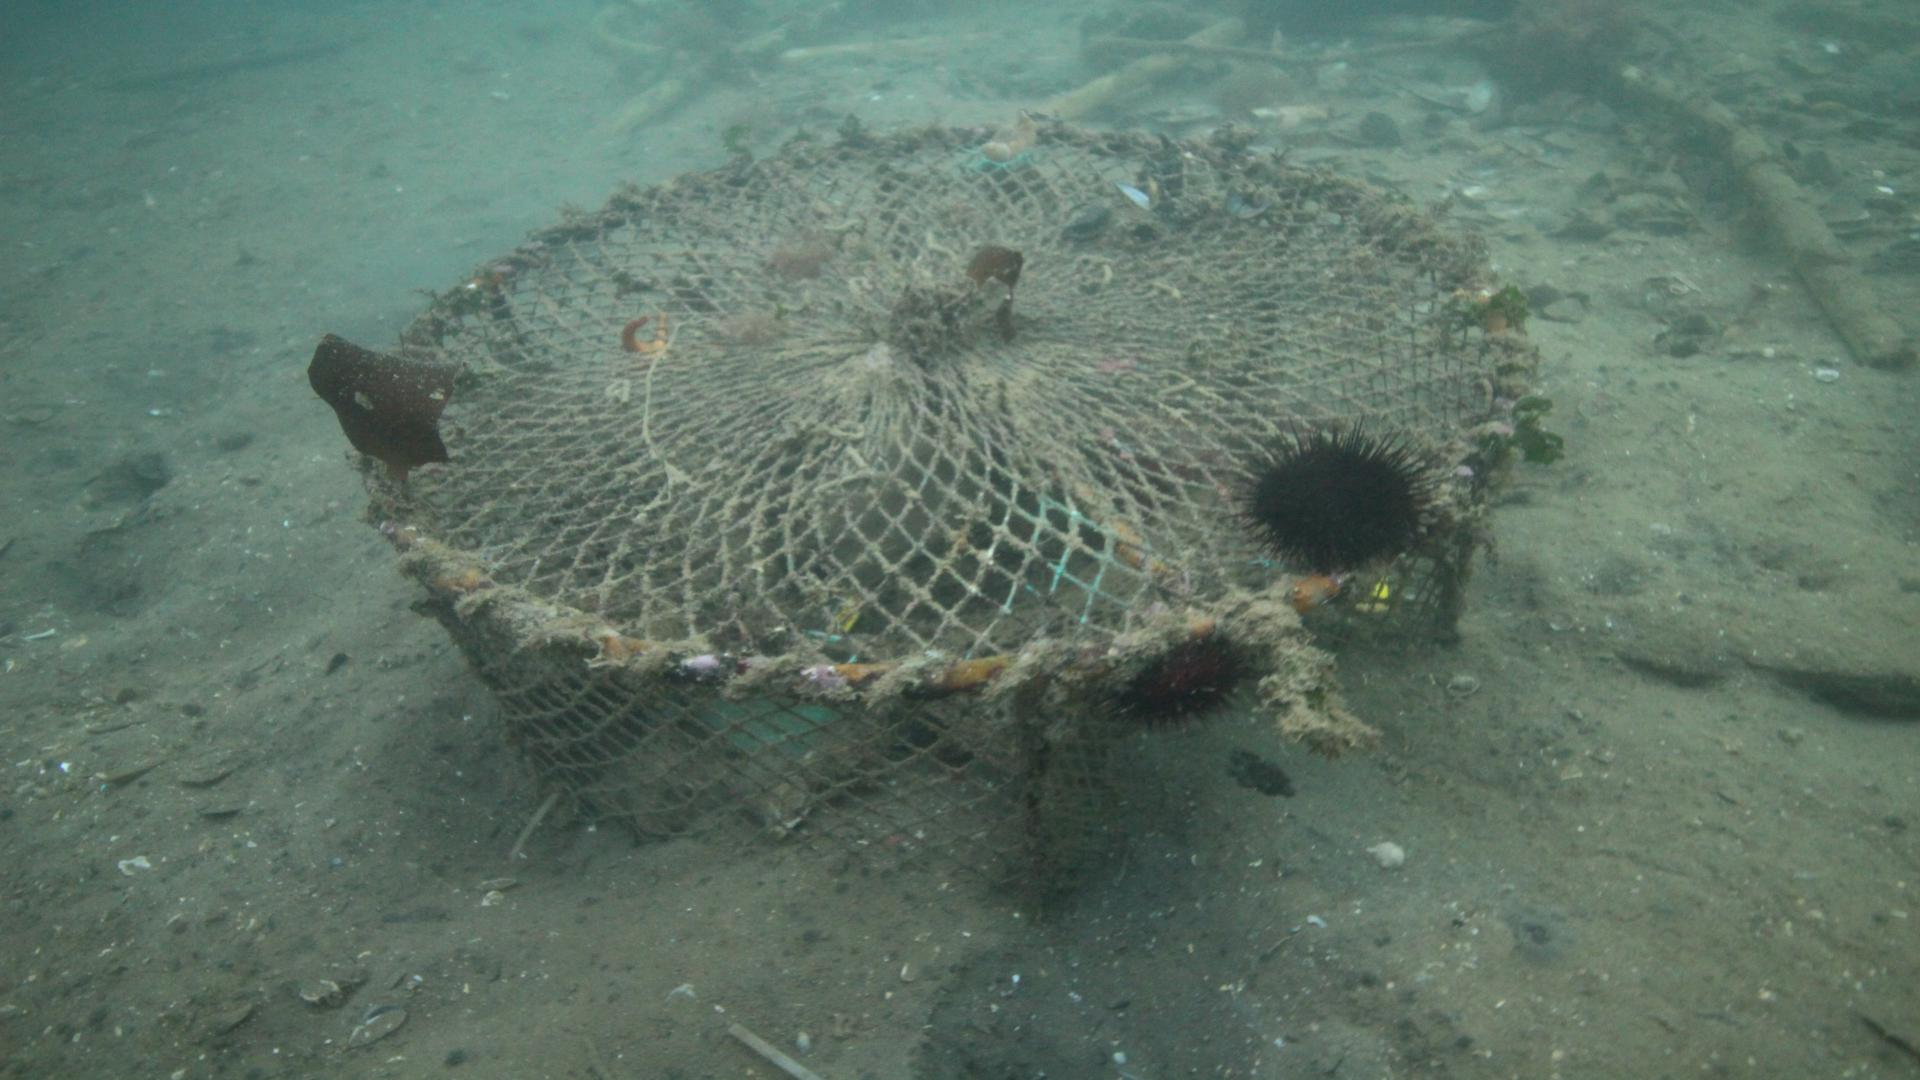circular fish trap: (361, 123, 1531, 922)
